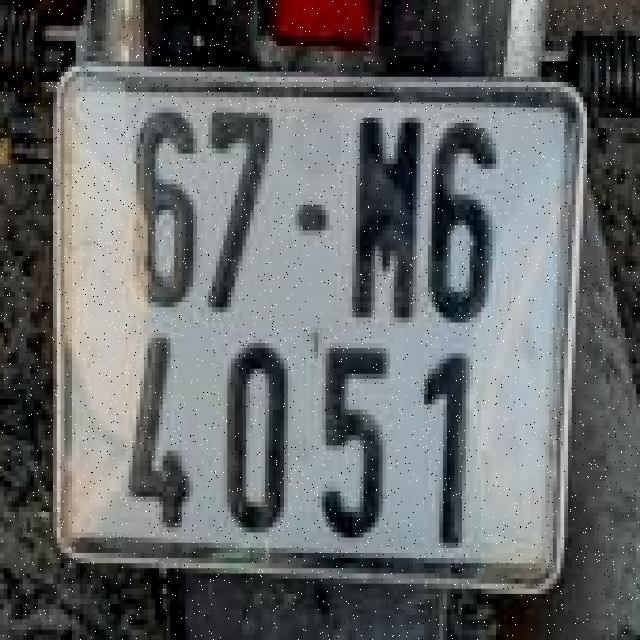0: (216, 338, 303, 532)
1: (416, 340, 484, 556)
4: (121, 328, 193, 538)
5: (314, 336, 398, 546)
6: (424, 113, 508, 338), (127, 102, 202, 318)
7: (204, 97, 276, 323)
M: (352, 107, 424, 333)
